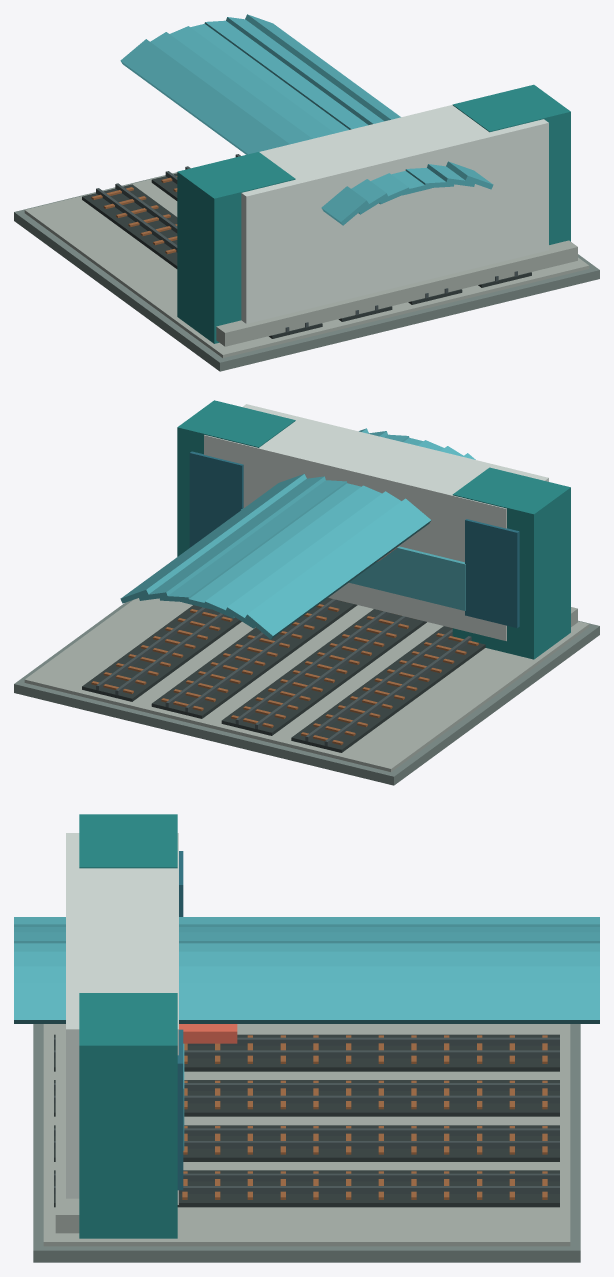
Rendered from train_station_lv3.glb.
3 renders of one model, top to bottom at view 1: azimuth 30°, elevation 25°; view 2: azimuth 150°, elevation 25°; view 3: azimuth 270°, elevation 25°, orthographic. The views are drawn at different scales.
Parts seen in each view (by area): view 1: white, glass, concrete, teal, pavement, asphalt, rail, wood; view 2: glass, concrete, white, asphalt, teal, glassDark, pavement, rail, wood; view 3: glass, concrete, asphalt, teal, rail, white, pavement, wood, glassDark, coral.
Part boxes in pixels (x1,y1,x2,y2): white: (241, 105, 548, 323); glass: (120, 14, 493, 225); concrete: (24, 173, 589, 357); teal: (177, 84, 570, 343); pavement: (14, 172, 599, 371); asphalt: (82, 173, 531, 338); rail: (96, 154, 517, 332); wood: (91, 176, 177, 254); glass: (120, 428, 475, 639); concrete: (24, 598, 589, 771); white: (204, 404, 548, 641); asphalt: (82, 598, 485, 752); teal: (177, 400, 570, 659); glassDark: (189, 451, 519, 628); pavement: (14, 600, 599, 785); rail: (96, 599, 471, 746); wood: (91, 604, 478, 745); glass: (14, 917, 599, 1150); concrete: (43, 1024, 570, 1246); asphalt: (54, 1034, 559, 1207); teal: (79, 814, 177, 1238); rail: (54, 1037, 559, 1193); white: (66, 833, 178, 1204); pavement: (33, 1024, 580, 1262); wood: (182, 1035, 547, 1199); glassDark: (177, 851, 183, 1190); coral: (179, 1024, 237, 1043).
Bounding box in the file's own units: 9.8 × 3.88 × 9.85.
